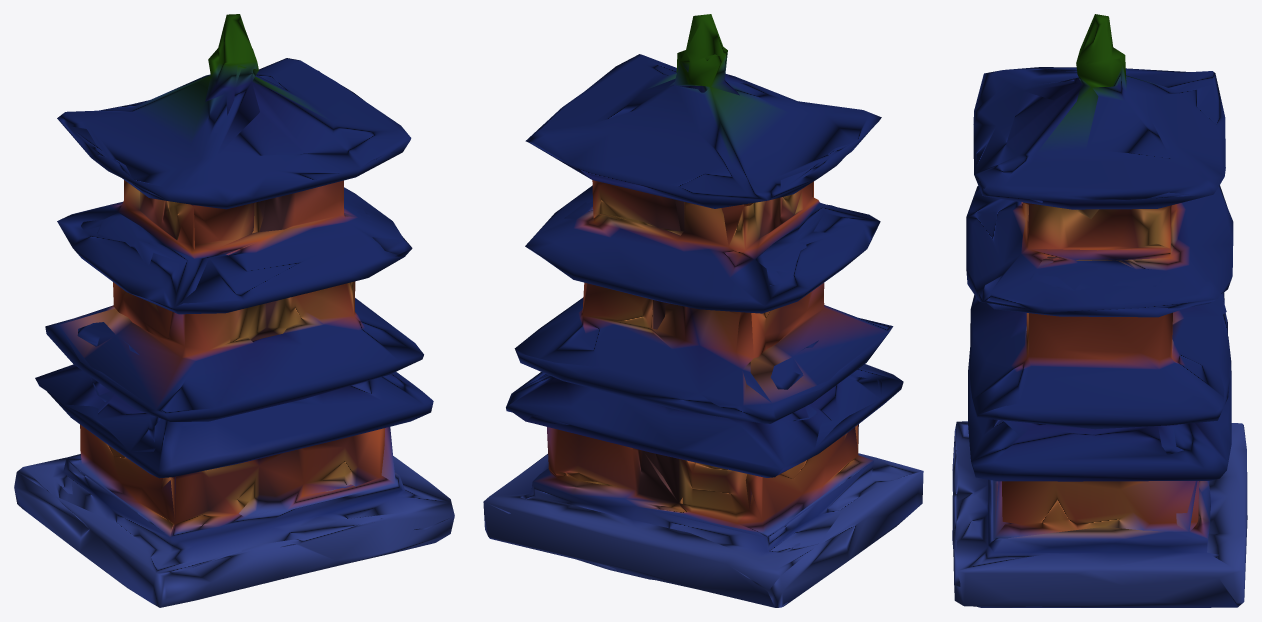
The model's file is gen3d-pagoda-lod0.glb.
The picture shows the model from 3 angles, left to right: view 1: azimuth 30°, elevation 25°; view 2: azimuth 150°, elevation 25°; view 3: azimuth 270°, elevation 25°; orthographic projection. The views are drawn at different scales.
Visible parts, largest first — view 1: part_0; view 2: part_0; view 3: part_0.
Boxes of the visible parts, x1,y1,x2,y2 form: part_0: [14, 14, 454, 607]; part_0: [483, 14, 923, 607]; part_0: [952, 14, 1247, 607].
Bounding box in the file's own units: 0.6177 × 0.9975 × 0.5141.
